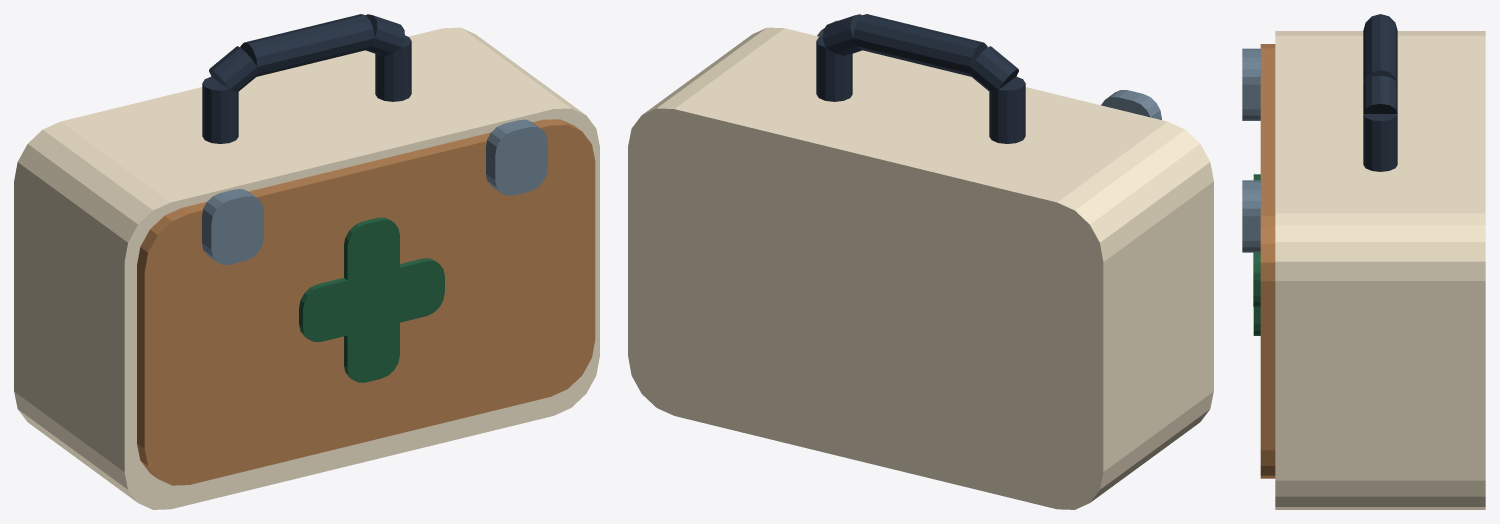
File: firstaid.glb
3 views of the same model, side by side, from view 1: azimuth 30°, elevation 25°; view 2: azimuth 150°, elevation 25°; view 3: azimuth 270°, elevation 25° (orthographic). The views are drawn at different scales.
Visible parts, largest first — view 1: lid, case, cross horizontal, cross vertical, carry handle2, closure 0.46, closure -0.46, carry handle0, carry handle4, carry handle1, carry handle3; view 2: case, carry handle2, carry handle0, carry handle4, carry handle1, carry handle3, closure -0.46; view 3: case, lid, carry handle2, carry handle4, closure -0.46, closure 0.46, carry handle3, cross horizontal, cross vertical.
Boxes of the visible parts, x1,y1,x2,y2 form: lid: (137,119,595,485); case: (14,27,599,509); cross horizontal: (299,258,444,341); cross vertical: (344,217,399,382); carry handle2: (240,14,374,76); closure 0.46: (486,119,547,195); closure -0.46: (202,189,263,264); carry handle0: (202,76,238,143); carry handle4: (375,35,411,101); carry handle1: (209,46,258,91); carry handle3: (366,14,404,55); case: (628,27,1213,509); carry handle2: (853,14,987,76); carry handle0: (989,76,1025,143); carry handle4: (816,35,852,101); carry handle1: (969,46,1018,91); carry handle3: (823,14,861,55); closure -0.46: (1101,90,1161,119); case: (1275,31,1485,509); lid: (1260,44,1275,478); carry handle2: (1363,15,1397,84); carry handle4: (1363,114,1397,171); closure -0.46: (1242,48,1260,120); closure 0.46: (1242,180,1260,252); carry handle3: (1363,75,1397,113); cross horizontal: (1253,252,1260,307); cross vertical: (1253,174,1260,335).
Size of the model in its own units: 1.54 by 1.22 by 0.7175.
